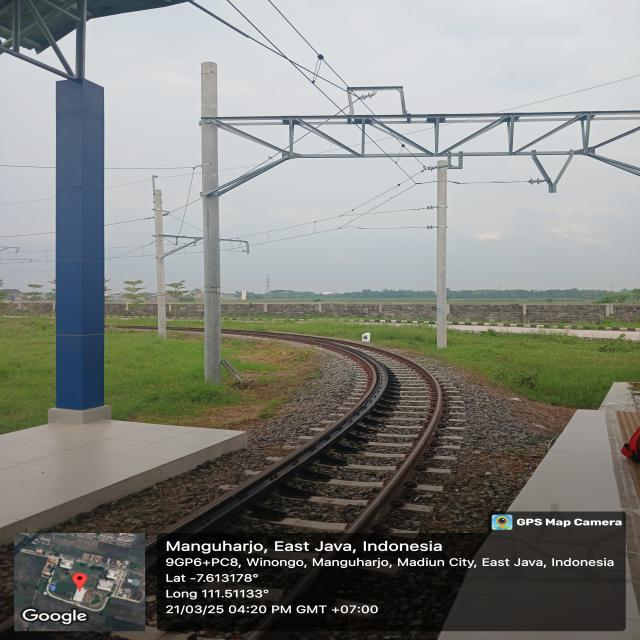rail-detection: (155, 333, 388, 550), (343, 362, 444, 534)
